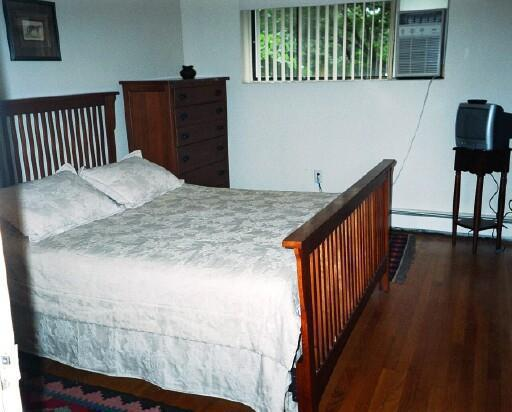Cama: (5, 101, 392, 404)
